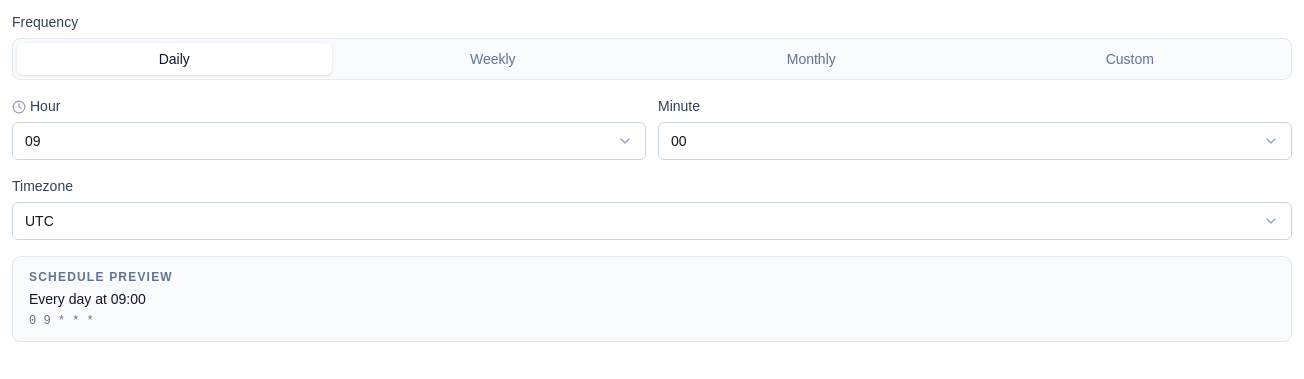
Test case: SchedulePicker — Custom cron input › clearing custom cron input → validation error (RED: no empty validation)
The width and height of the screenshot is (1304, 379).
Step 1. Click the radio button labelled "Custom" → (1130, 59), box [972,43,1287,75]
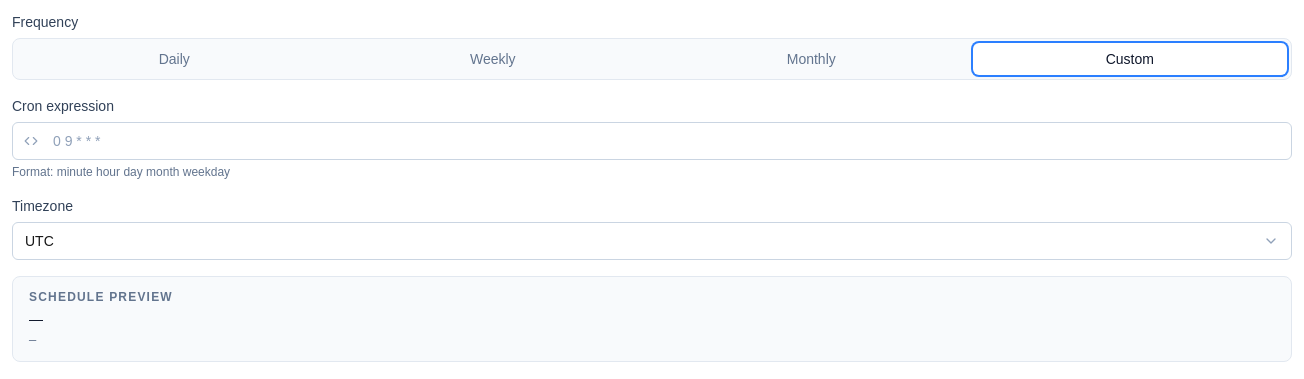
Step 2. Clear the field named "custom cron expression" → (652, 141), box [12,122,1292,160]
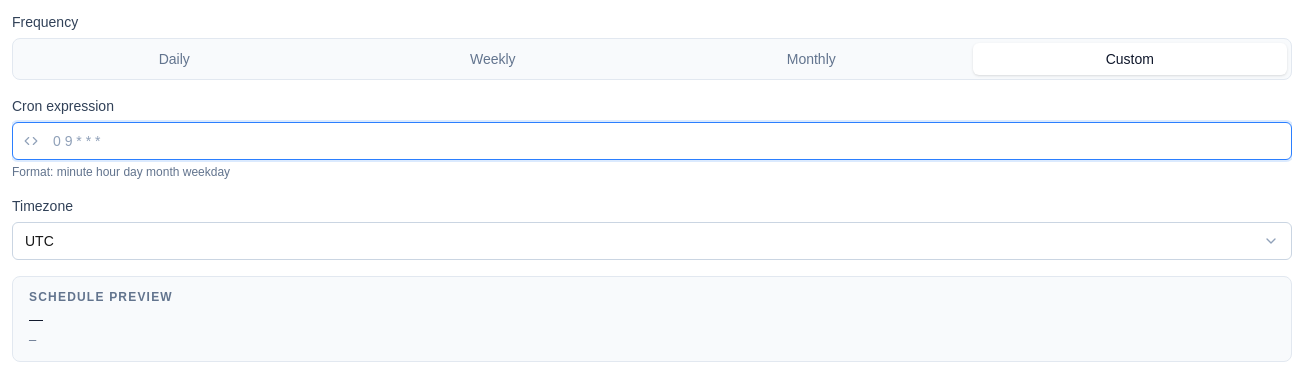
Step 3. Press Tab
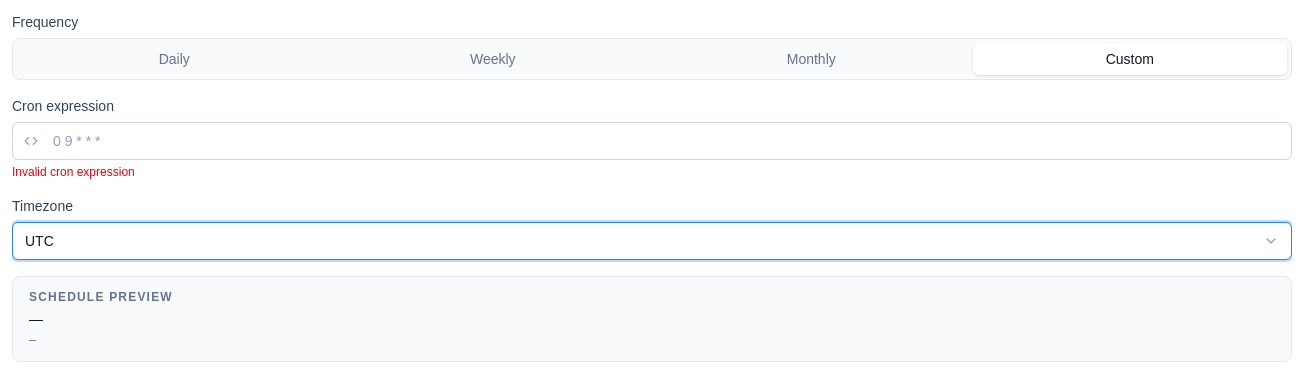
Expected: the message "Invalid cron expression" is shown, [12,165,135,179]
